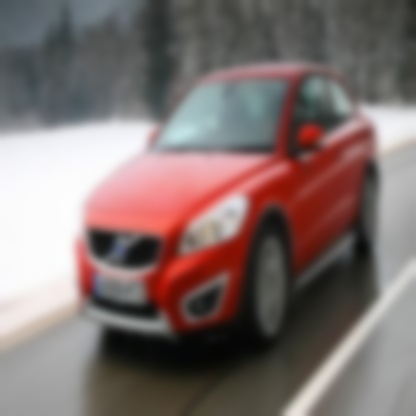Vehicle: (75, 60, 382, 353)
